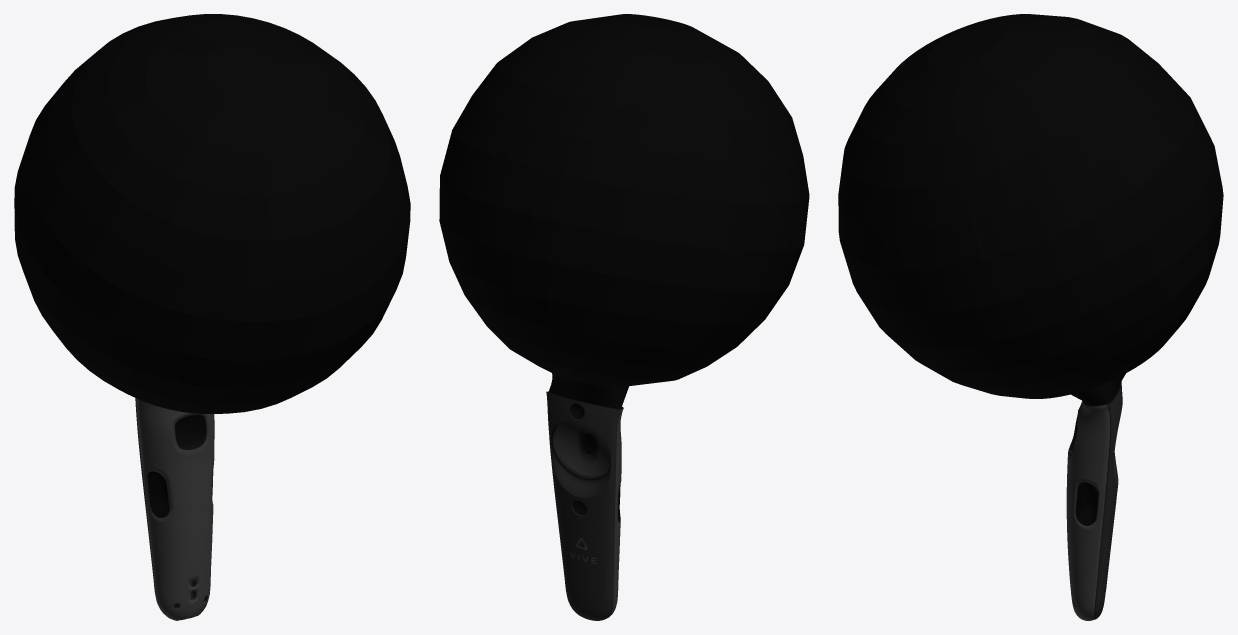
File: controller_balloon.fbx
The picture shows the model from 3 angles, left to right: view 1: azimuth 30°, elevation 25°; view 2: azimuth 150°, elevation 25°; view 3: azimuth 270°, elevation 25°; orthographic projection. The views are drawn at different scales.
Parts seen in each view (by area): view 1: body_group1; view 2: body_group1; view 3: body_group1.
Part boxes in pixels (left/top/right/bottom): body_group1: left=14, top=14, right=410, bottom=620; body_group1: left=439, top=14, right=809, bottom=620; body_group1: left=838, top=14, right=1223, bottom=620.
Size of the model in its own units: 9.21 by 15.6 by 9.33.
